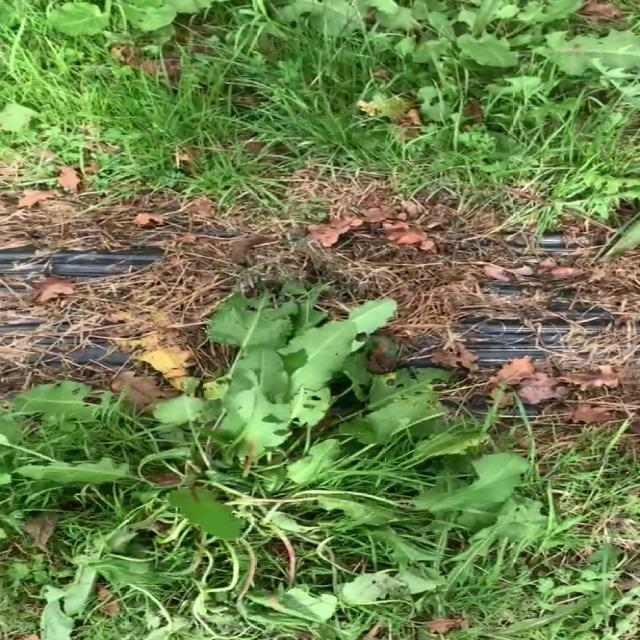organic waste: (0, 276, 539, 640), (292, 0, 640, 111), (0, 0, 251, 46)
